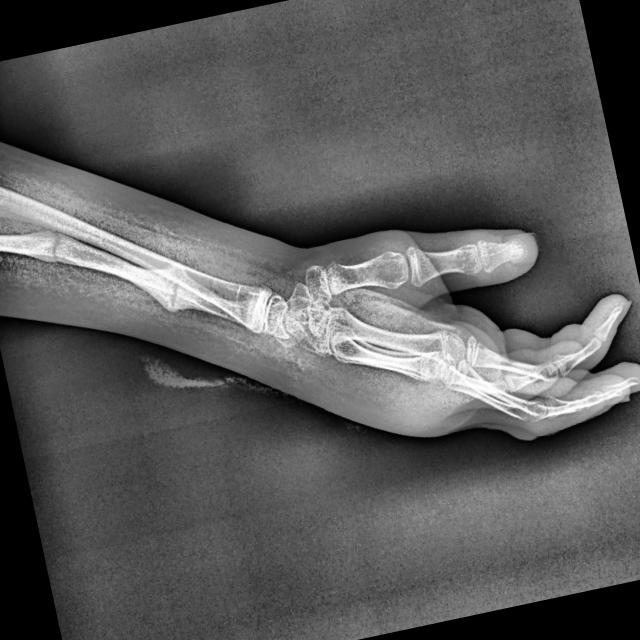Fracture: (136, 242, 202, 332), (28, 206, 84, 286)
